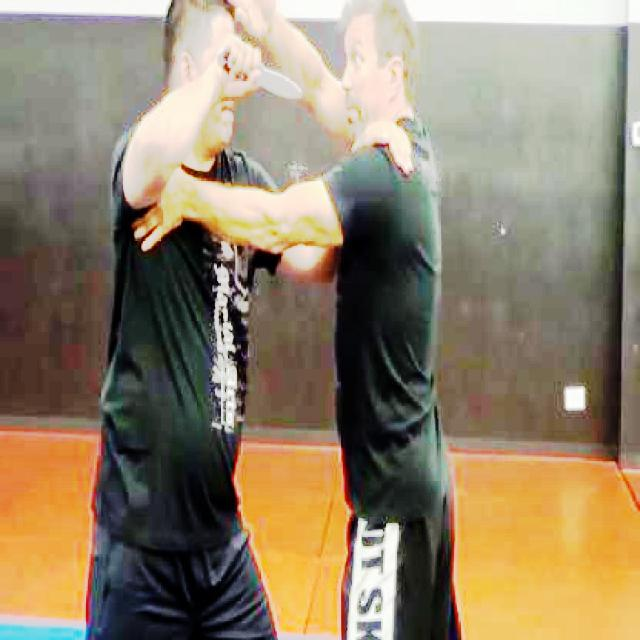Knife: (232, 51, 311, 105)
